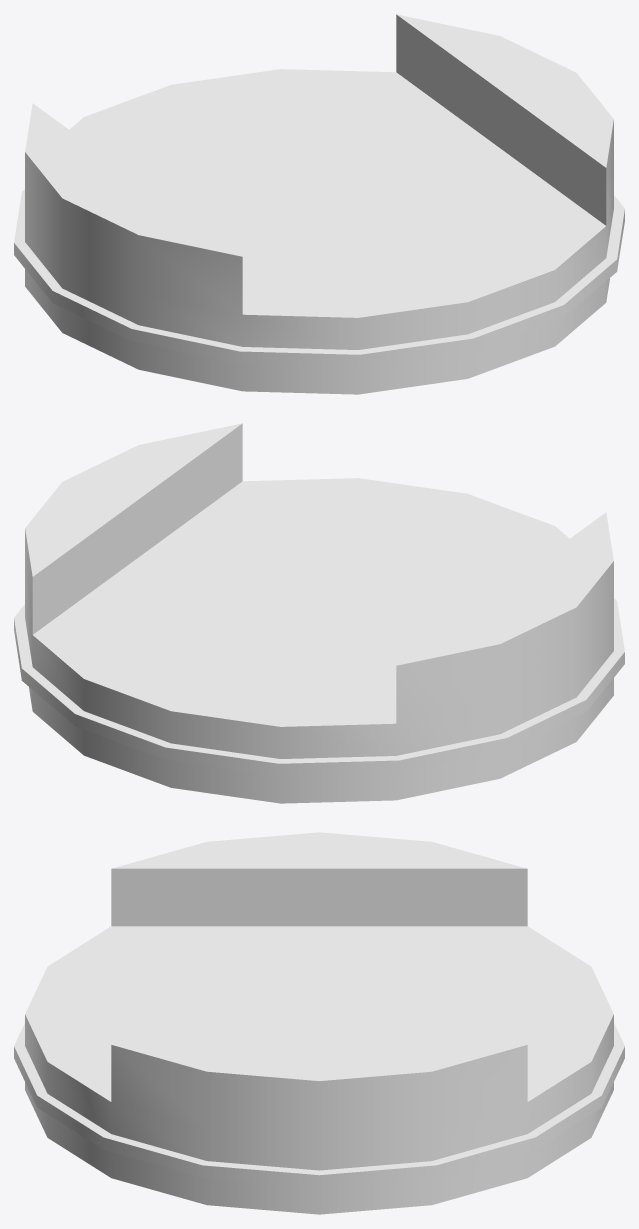
File: modLadderBase.fbx
The picture shows the model from 3 angles, top to bottom: view 1: azimuth 30°, elevation 25°; view 2: azimuth 150°, elevation 25°; view 3: azimuth 270°, elevation 25°; orthographic projection.
Parts seen in each view (by area): view 1: modBaseLadder; view 2: modBaseLadder; view 3: modBaseLadder.
Boxes of the visible parts, x1=… form: modBaseLadder: x1=14, y1=14, x2=624, y2=394; modBaseLadder: x1=14, y1=423, x2=624, y2=803; modBaseLadder: x1=14, y1=832, x2=624, y2=1214.
Bounding box in the file's own units: 2.08 × 0.5002 × 2.08.
